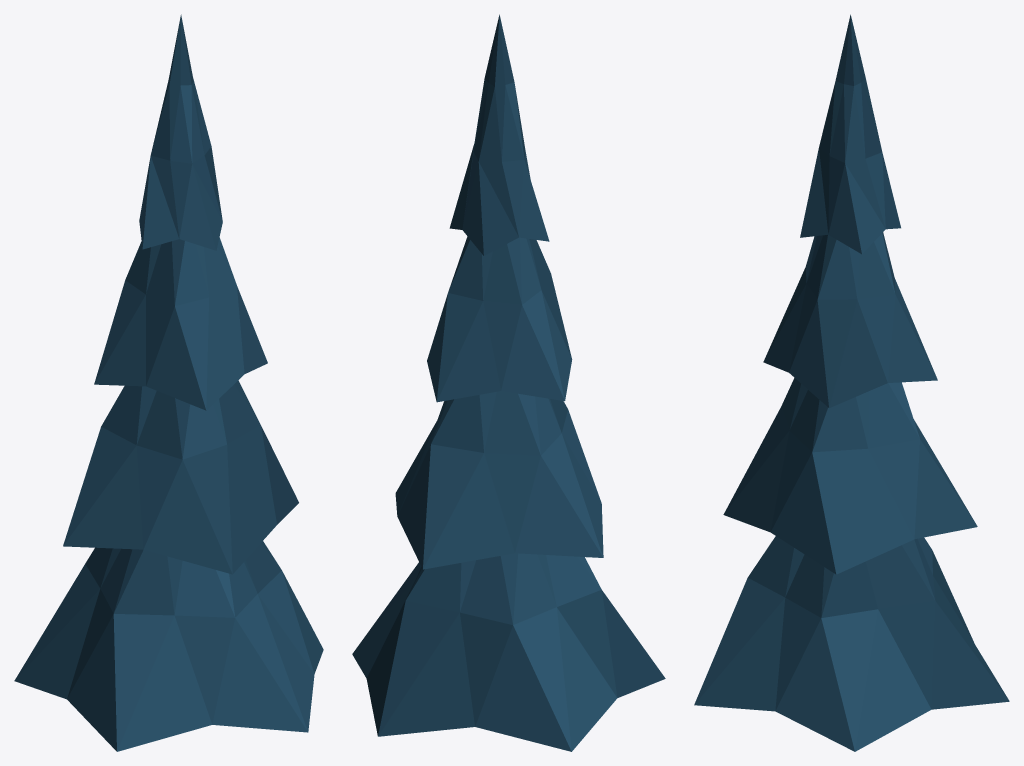
The model's file is Leaves_A.glb.
3 renders of one model, left to right at view 1: azimuth 30°, elevation 25°; view 2: azimuth 150°, elevation 25°; view 3: azimuth 270°, elevation 25°, orthographic.
Parts seen in each view (by area): view 1: Leaves; view 2: Leaves; view 3: Leaves.
Part boxes in pixels (<box>): Leaves: <box>14,14,323,751</box>; Leaves: <box>352,14,665,751</box>; Leaves: <box>694,14,1009,751</box>.
Size of the model in its own units: 14.59 by 35.48 by 15.21.
